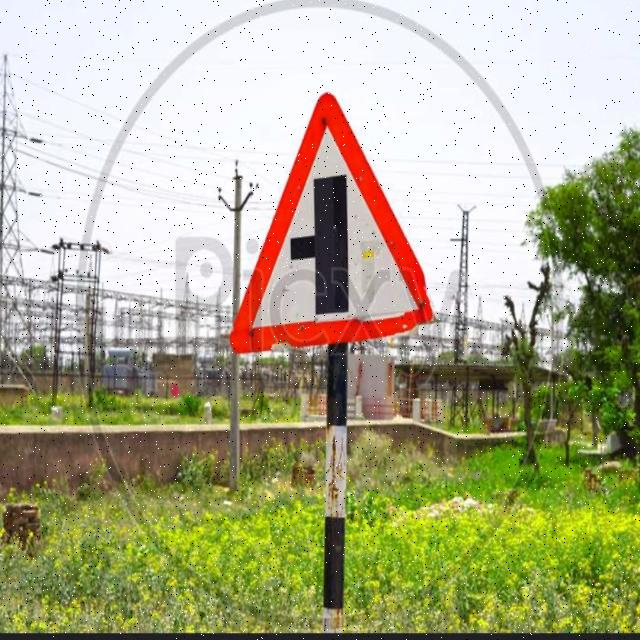Sideroad_toleft: (225, 91, 440, 347)
